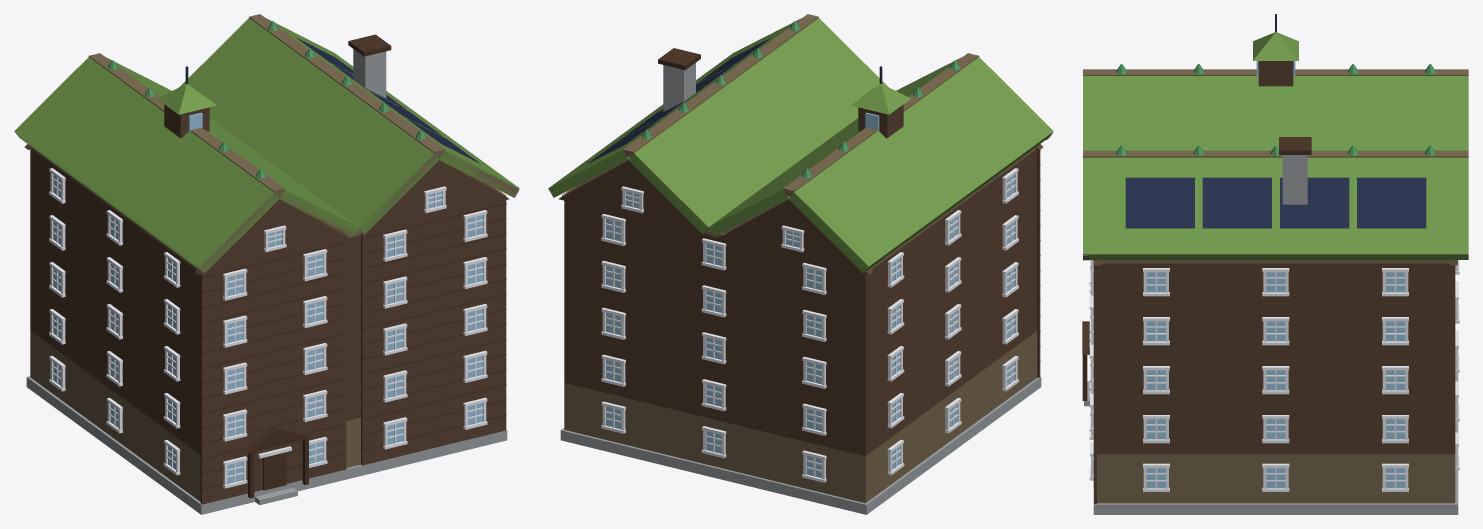
File: house-2x2-5f-turf-a-solar.glb
The picture shows the model from 3 angles, left to right: view 1: azimuth 30°, elevation 25°; view 2: azimuth 150°, elevation 25°; view 3: azimuth 270°, elevation 25°; orthographic projection. The views are drawn at different scales.
Visible parts, largest first — view 1: house-2x2-5f-turf-a-solar; view 2: house-2x2-5f-turf-a-solar; view 3: house-2x2-5f-turf-a-solar.
Boxes of the visible parts, bbox=[...] form: house-2x2-5f-turf-a-solar: bbox=[14, 14, 519, 514]; house-2x2-5f-turf-a-solar: bbox=[548, 14, 1053, 514]; house-2x2-5f-turf-a-solar: bbox=[1082, 14, 1468, 514].
Size of the model in its own units: 2 by 2.19 by 2.
1 material, 1 textured.
